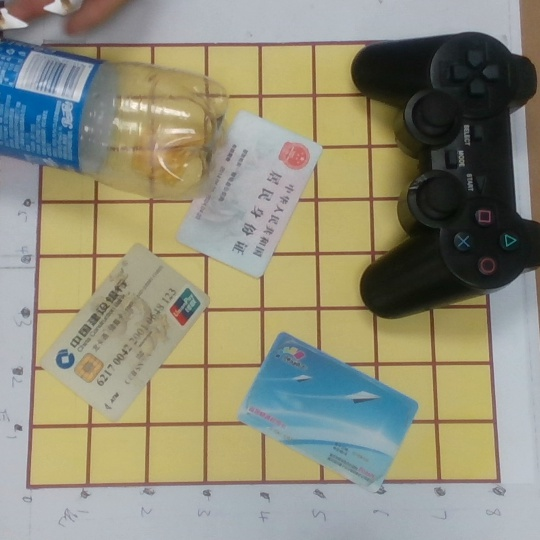card: (41, 243, 212, 419), (235, 332, 419, 495), (178, 108, 323, 280)
remote: (340, 30, 540, 321)
